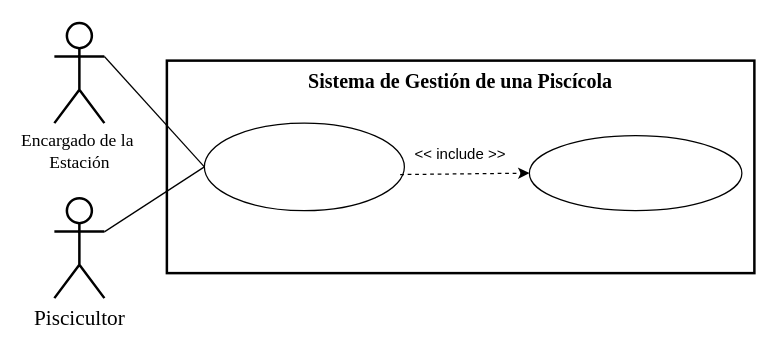
This 778x353 diagram has some shape labels left out. Here are the shapes that lost their labels. From the top down, the centre of each, then its label:
(x=303, y=166): Gestionar estanque
(x=635, y=172): Programar Cosecha
